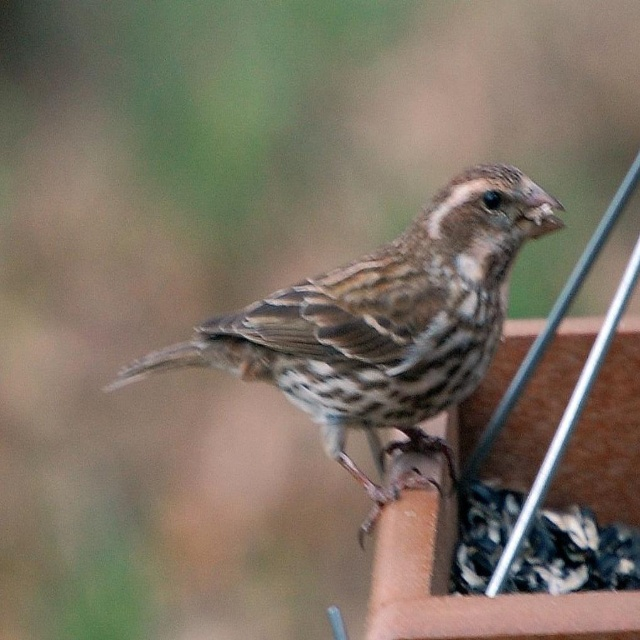Sparrow: (101, 161, 569, 551)
